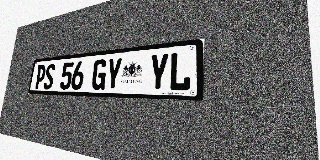5: (59, 62, 74, 90)
6: (70, 61, 85, 90)
G: (91, 59, 108, 90)
L: (168, 51, 192, 91)
P: (34, 65, 46, 89)
S: (43, 64, 56, 89)
Y: (148, 53, 169, 91), (105, 57, 123, 90)
